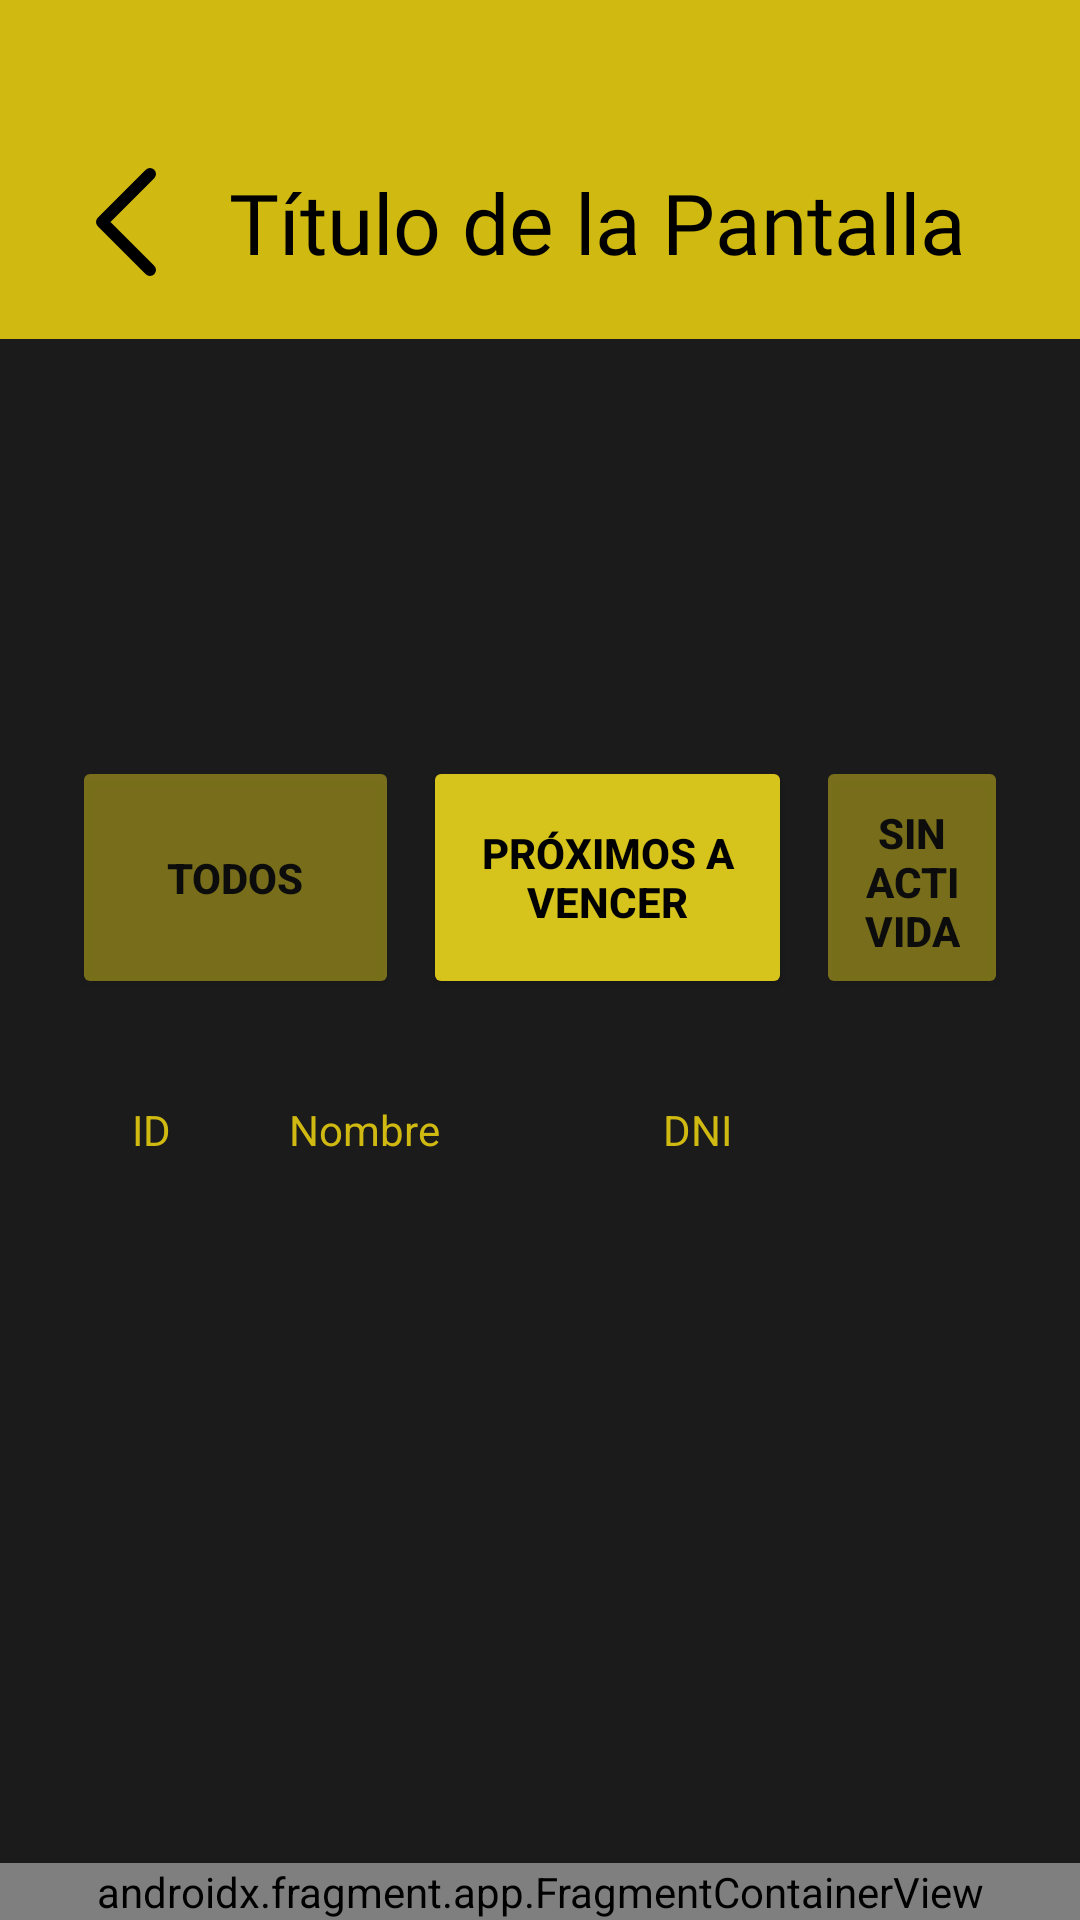

Icon click points for this 1080×1920 phone screenshot, format (x,y):
atras: (126,222)
